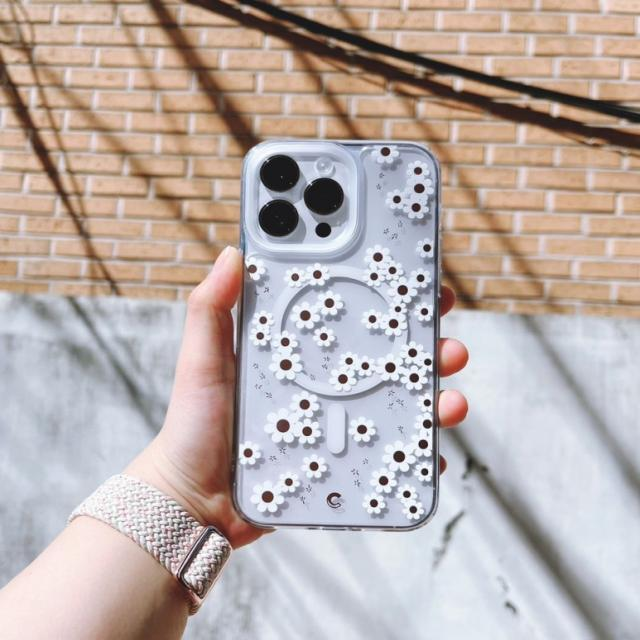phone: (232, 138, 442, 532)
